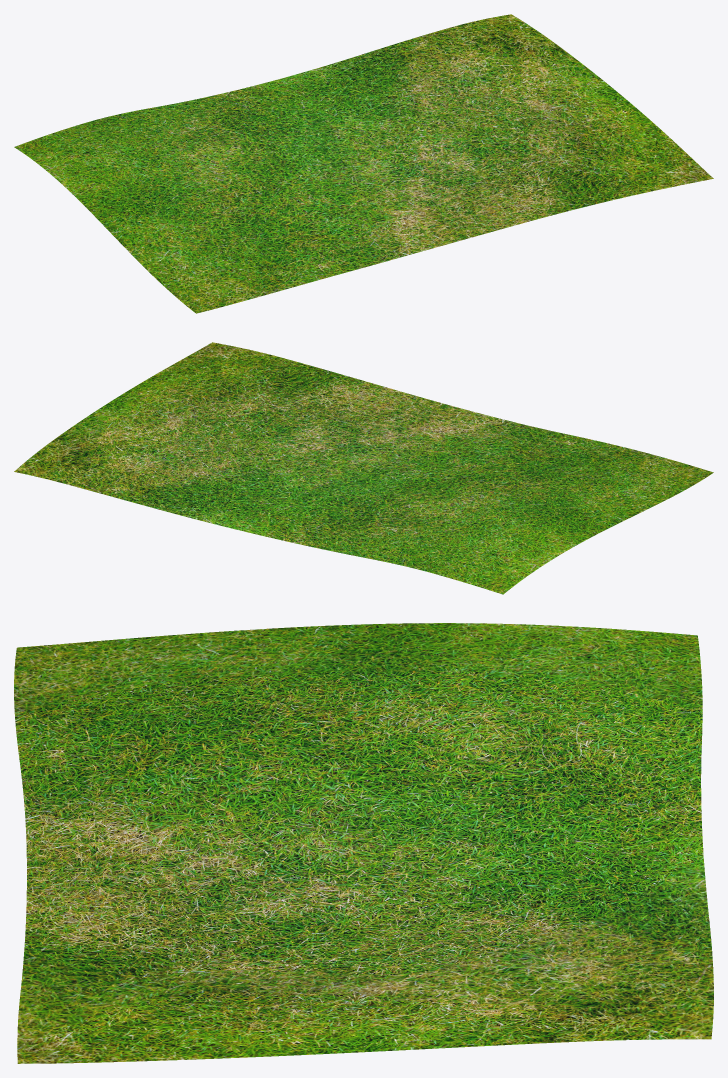
The model's file is grassyfield_but_where_the_grass_skechfab_reason.glb.
The picture shows the model from 3 angles, top to bottom: view 1: azimuth 30°, elevation 25°; view 2: azimuth 150°, elevation 25°; view 3: azimuth 270°, elevation 25°; orthographic projection. The views are drawn at different scales.
Visible parts, largest first — view 1: g.001_0; view 2: g.001_0; view 3: g.001_0.
Part boxes in pixels (x1,y1,x2,y2): g.001_0: [14, 14, 713, 313]; g.001_0: [14, 342, 713, 594]; g.001_0: [14, 623, 713, 1063].
Size of the model in its own units: 1.63 by 0.0771 by 1.1.
Materials: 1 (1 with a texture image).
